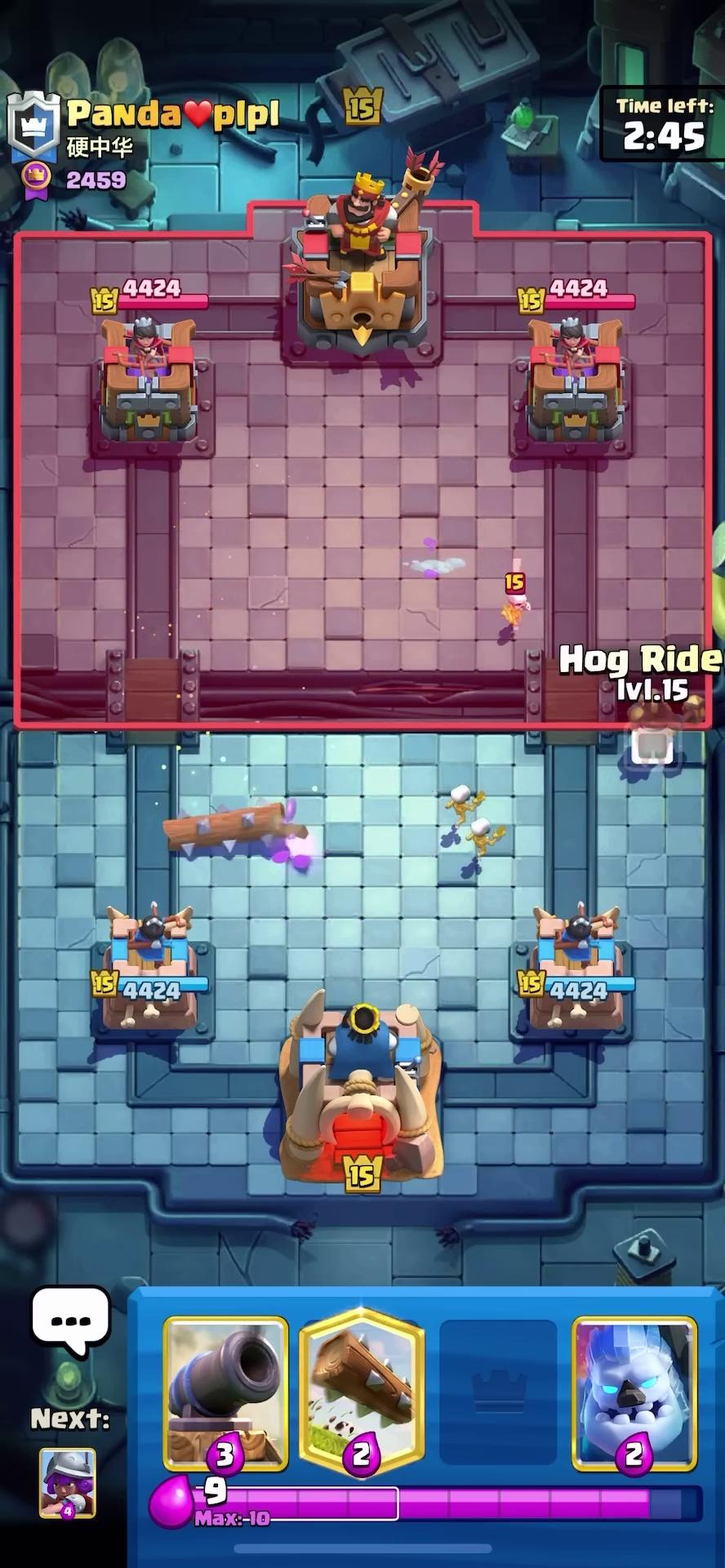log: (157, 792, 306, 853)
skeletons: (441, 774, 494, 876)
